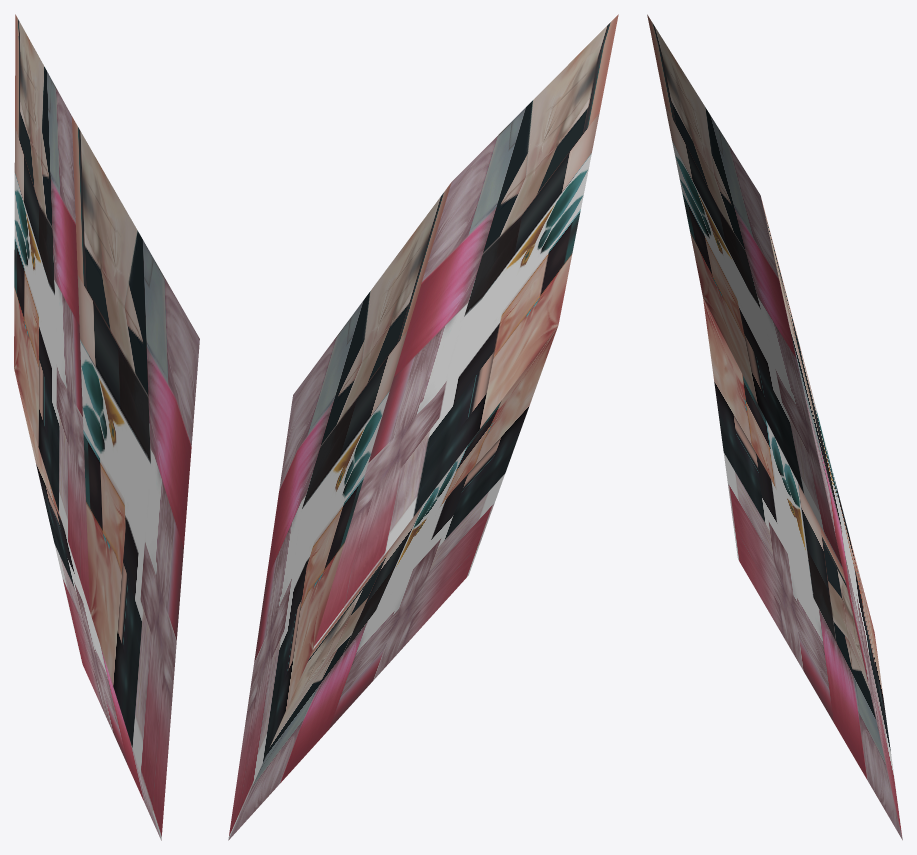
Rendered from judithWing.fbx.
3 views of the same model, side by side, from view 1: azimuth 30°, elevation 25°; view 2: azimuth 150°, elevation 25°; view 3: azimuth 270°, elevation 25° (orthographic). The views are drawn at different scales.
Visible parts, largest first — view 1: judithWing; view 2: judithWing; view 3: judithWing.
Part boxes in pixels (<box>): judithWing: <box>14,14,199,840</box>; judithWing: <box>228,14,618,840</box>; judithWing: <box>647,14,902,840</box>.
Bounding box in the file's own units: 0.2776 × 0.8329 × 0.2698.
